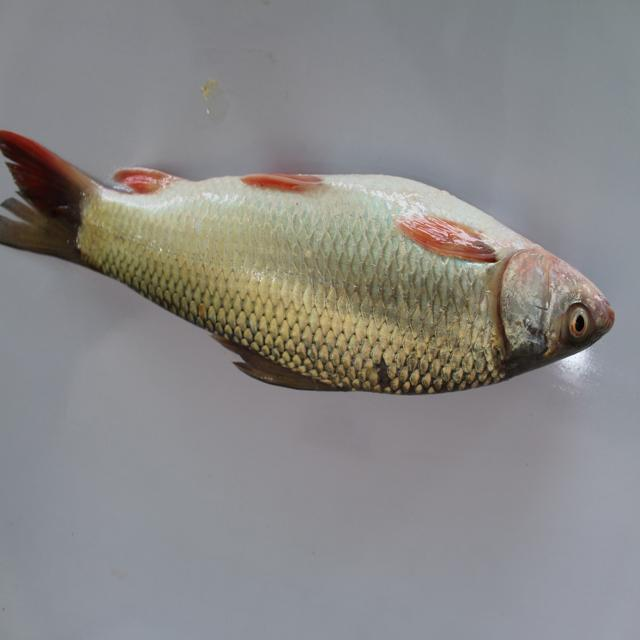Mori: (3, 119, 615, 403)
